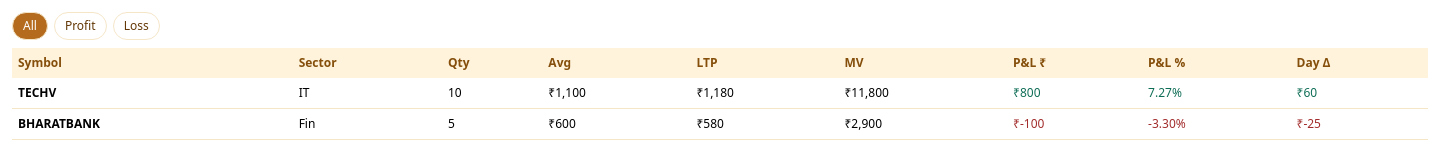
Test: HoldingsTab › filters by Profit chip
The image size is (1440, 160).
Click the button with test id "holdings-filter-profit" at {"x": 80, "y": 26}, box [54,12,107,40]
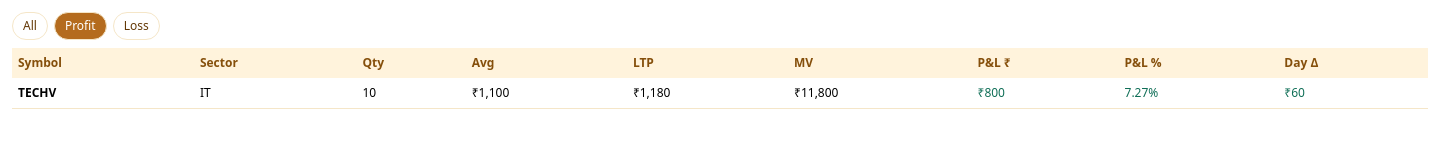
Expected: the row with test id "holding-row-TECHV" is shown, [12,78,1428,108]
Result: the row with test id "holding-row-BHARATBANK" is gone
